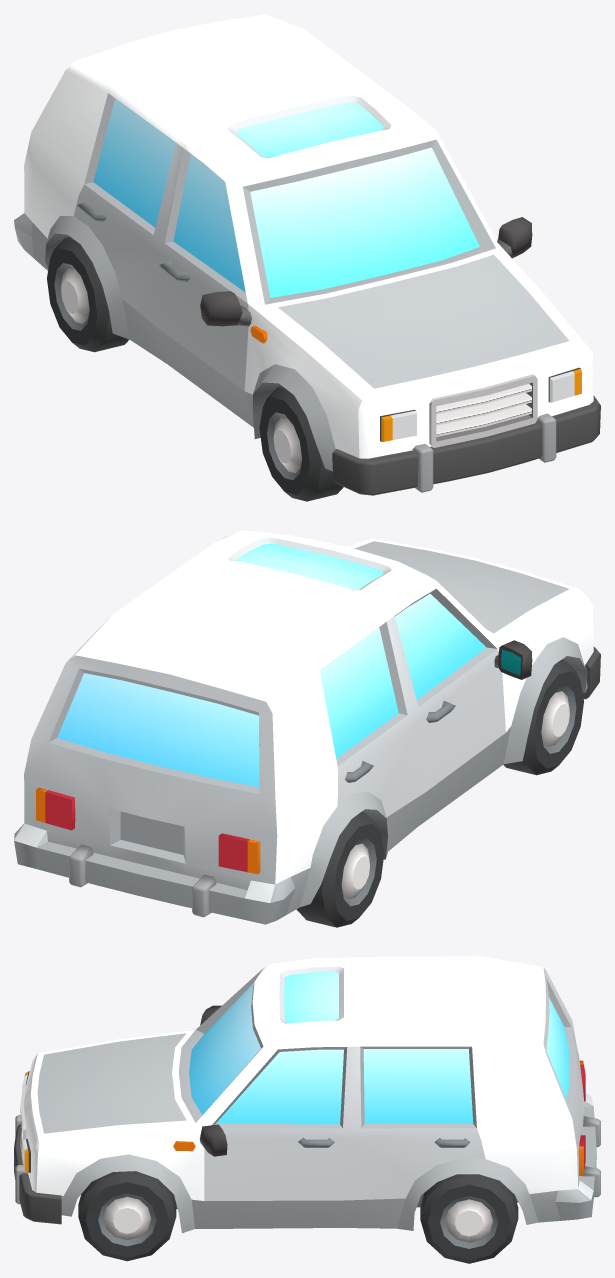
File: Car_13.glb
3 renders of one model, top to bottom at view 1: azimuth 30°, elevation 25°; view 2: azimuth 150°, elevation 25°; view 3: azimuth 270°, elevation 25°, orthographic. The views are drawn at different scales.
Parts seen in each view (by area): view 1: Car_13, Wheel_009, Wheel_010; view 2: Car_13, Wheel_010, Wheel_009; view 3: Car_13, Wheel_012, Wheel_011.
Boxes of the visible parts, x1,y1,x2,y2 form: Car_13: (14, 14, 600, 495); Wheel_009: (259, 386, 343, 501); Wheel_010: (47, 236, 128, 352); Car_13: (14, 530, 600, 924); Wheel_010: (296, 812, 384, 927); Wheel_009: (503, 659, 583, 775); Car_13: (14, 956, 600, 1233); Wheel_012: (420, 1174, 518, 1263); Wheel_011: (78, 1171, 176, 1261).
Bounding box in the file's own units: 2.43 × 1.88 × 4.57.
2 materials, 2 textured.
